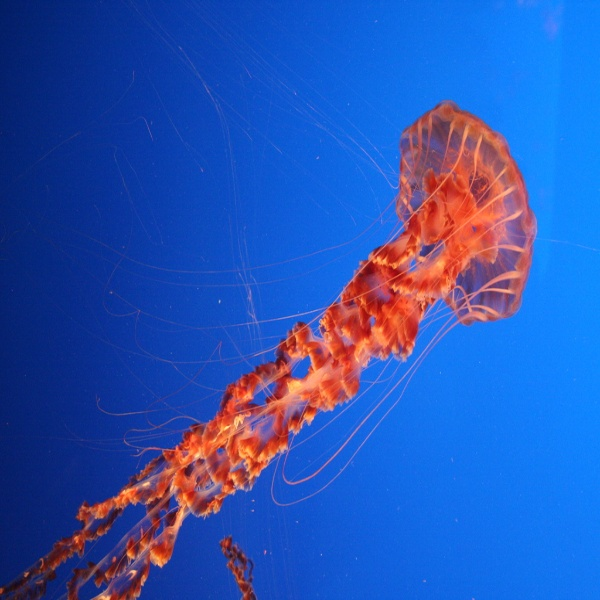Jellyfish: (0, 95, 537, 600)
